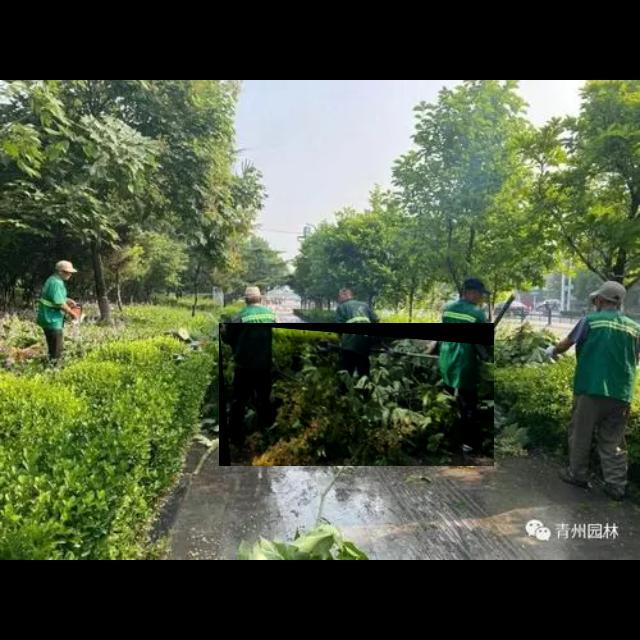fallen_tree: (219, 323, 495, 467)
